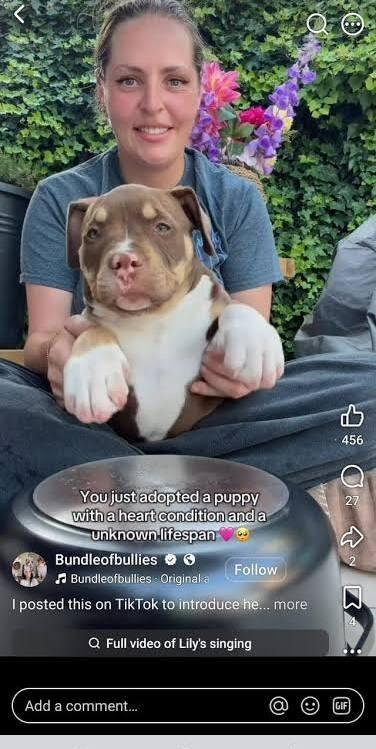puppy-dog: (55, 181, 286, 444)
